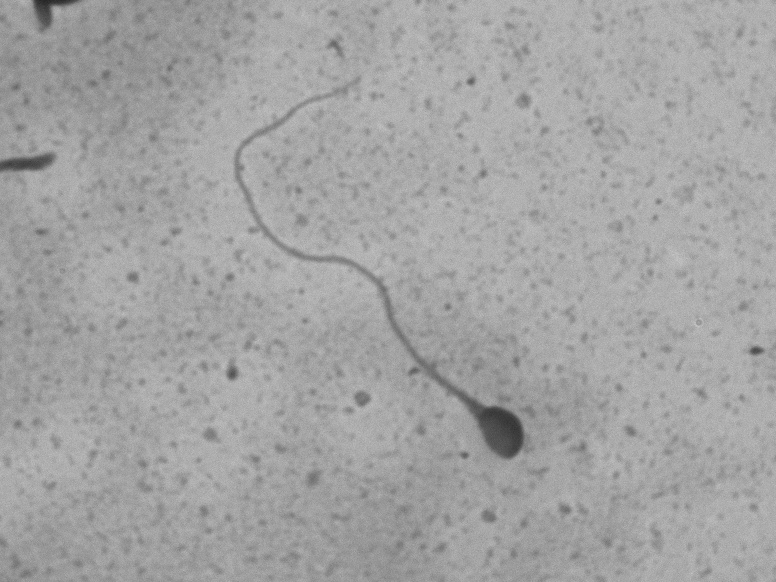Abnormal: (191, 65, 555, 479)
